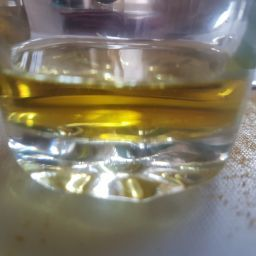Oil: (4, 35, 249, 138)
